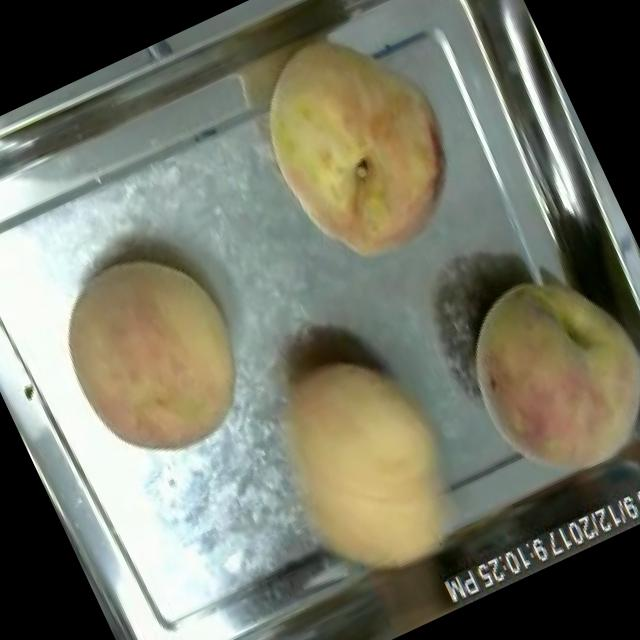Fruit: (228, 2, 496, 296), (235, 319, 500, 613), (28, 222, 278, 487), (427, 233, 640, 514)
